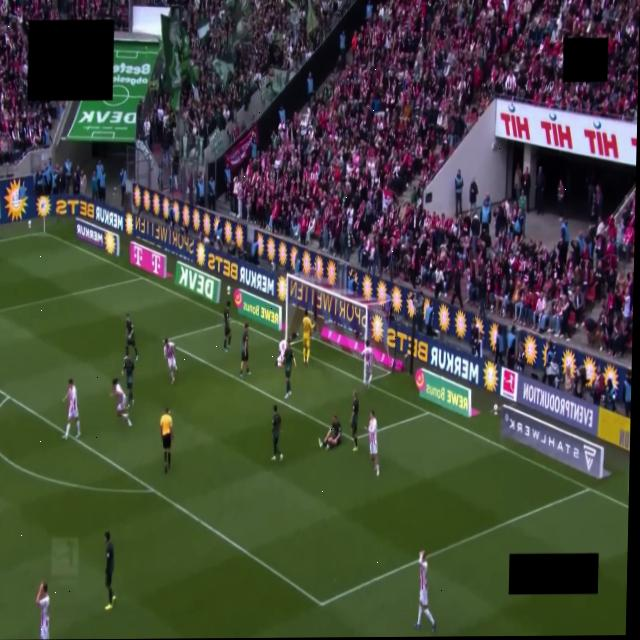player: (414, 551, 437, 631), (103, 532, 117, 611), (62, 379, 79, 438), (111, 379, 131, 427), (318, 414, 340, 450), (36, 582, 49, 639), (368, 411, 379, 476), (283, 341, 295, 398), (271, 406, 282, 461), (122, 355, 134, 405), (163, 339, 176, 383), (125, 313, 137, 360), (302, 310, 312, 365), (349, 391, 358, 451), (361, 340, 372, 388), (222, 300, 232, 352), (240, 324, 249, 379), (275, 340, 285, 367)
referee: (159, 408, 172, 473)
